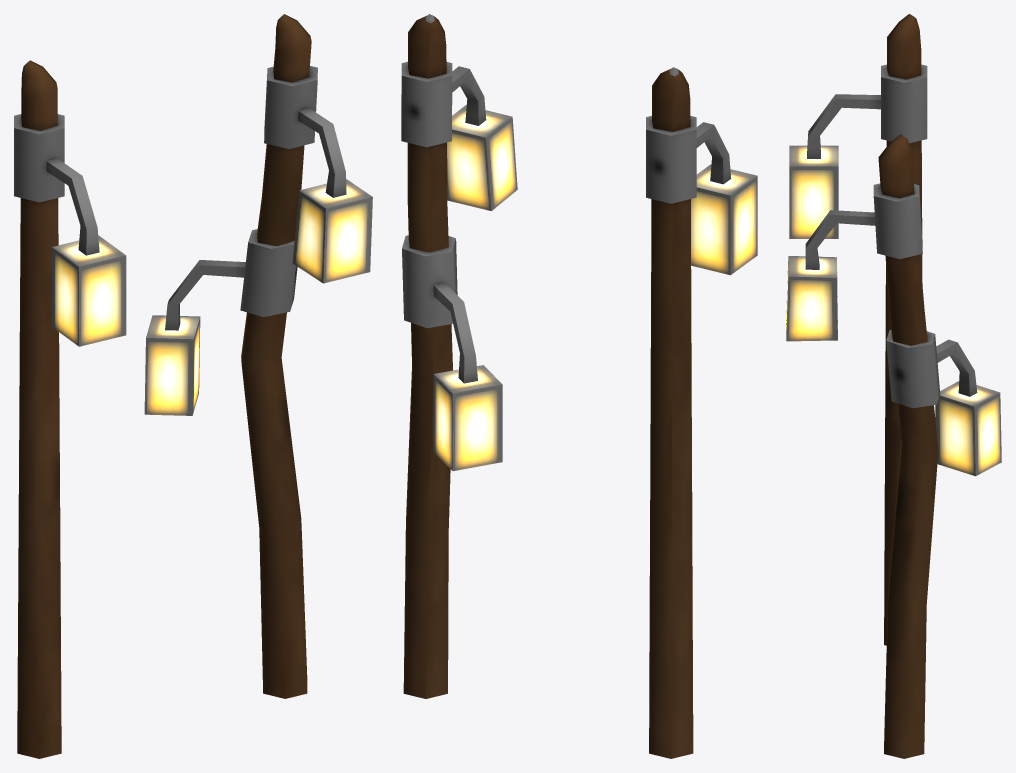
The model's file is street_lamps.glb.
3 views of the same model, side by side, from view 1: azimuth 30°, elevation 25°; view 2: azimuth 150°, elevation 25°; view 3: azimuth 270°, elevation 25° (orthographic). The views are drawn at different scales.
Parts seen in each view (by area): view 1: Poste_Torto_1, Poste_Reto_0; view 2: Poste_Torto_1, Poste_Reto_0; view 3: Poste_Torto_1, Poste_Reto_0.
Boxes of the visible parts, left/top/right/bottom form: Poste_Torto_1: left=144, top=14, right=372, bottom=698; Poste_Reto_0: left=14, top=60, right=126, bottom=758; Poste_Torto_1: left=401, top=14, right=517, bottom=698; Poste_Reto_0: left=646, top=67, right=757, bottom=758; Poste_Torto_1: left=786, top=134, right=1001, bottom=758; Poste_Reto_0: left=789, top=14, right=927, bottom=645.
Bounding box in the file's own units: 4.48 × 9.8 × 3.07.
Materials: 1 (1 with a texture image).
